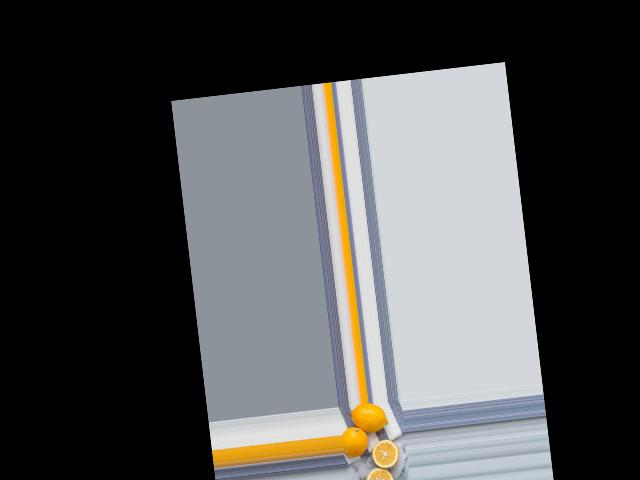lemon: (340, 426, 368, 455)
